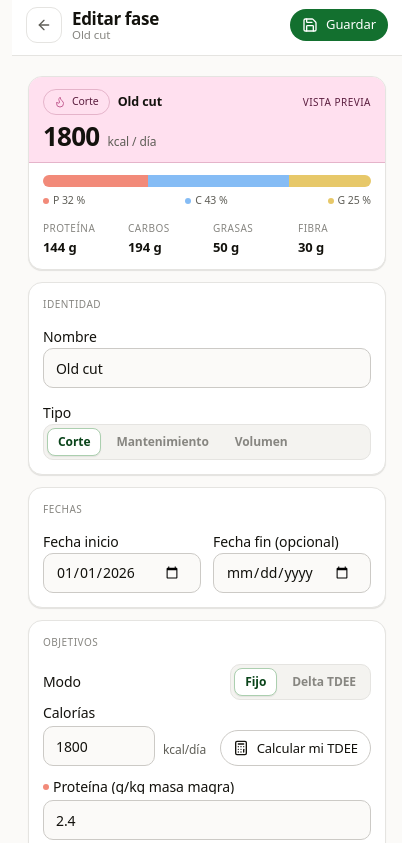
Test case: PhaseEditorPage — the overlapping save (23P01) › surfaces the overlap on an EDIT too, and keeps the editor open
Click the button "Guardar" at (339, 25), box [290,9,388,41]
(page scrolled)
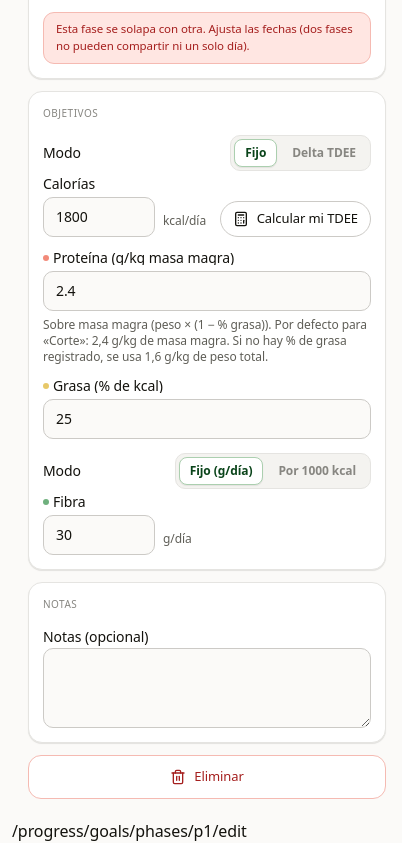
Expected: the text with test id "loc" reads "/progress/goals/phases/p1/edit", [12,820,247,842]
Result: the text "Esta fase se solapa con otra. Ajusta las fechas (dos fases no pueden compartir ni un solo día)." is shown at [56,21,353,53]
